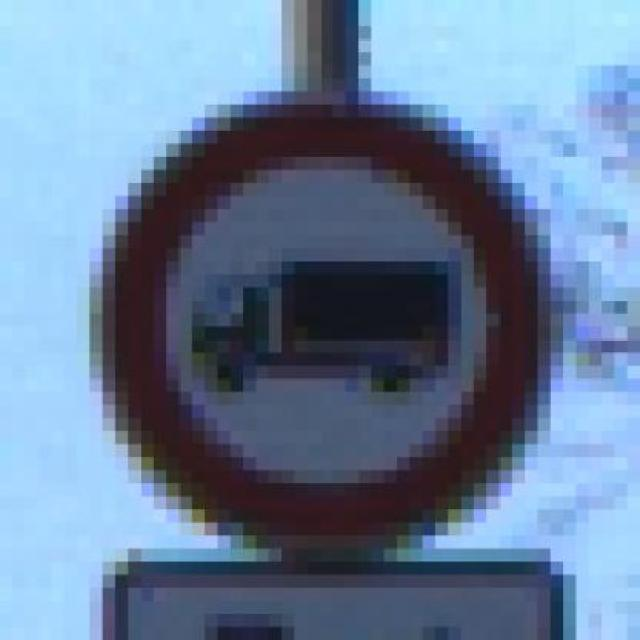Truck traffic is prohibited: (65, 79, 563, 562)
